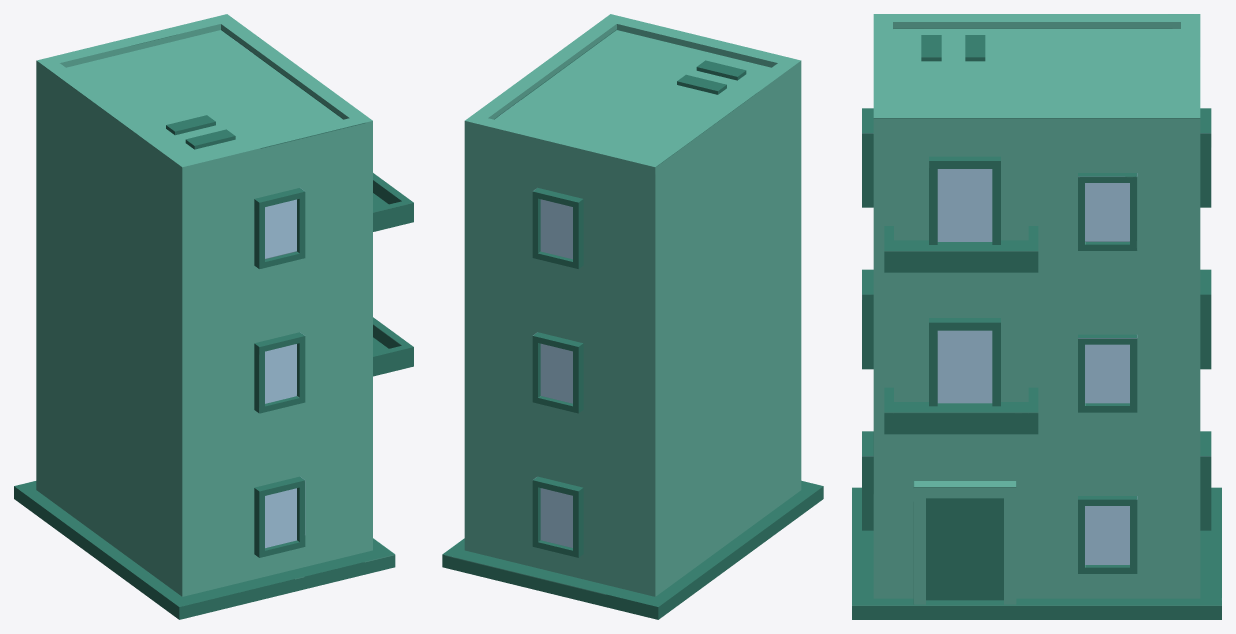
Rendered from apartament_green.fbx.
The picture shows the model from 3 angles, left to right: view 1: azimuth 30°, elevation 25°; view 2: azimuth 150°, elevation 25°; view 3: azimuth 270°, elevation 25°; orthographic projection. The views are drawn at different scales.
Visible parts, largest first — view 1: apartament; view 2: apartament; view 3: apartament.
Part boxes in pixels (x1=…): apartament: x1=14, y1=14, x2=413, y2=619; apartament: x1=442, y1=14, x2=823, y2=619; apartament: x1=852, y1=14, x2=1221, y2=619.
Size of the model in its own units: 629 by 1068 by 723.
1 material, 1 textured.
